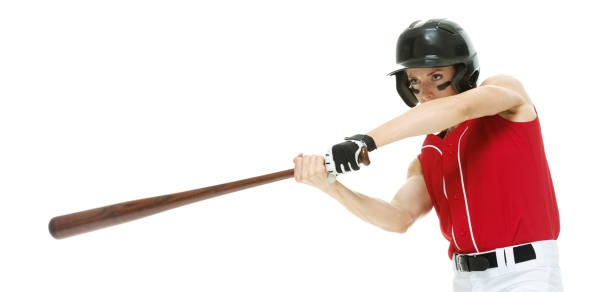bita: (50, 167, 316, 237)
